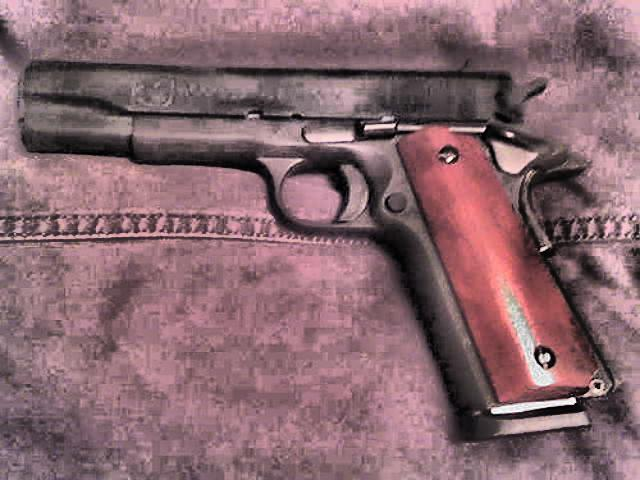pistol: (13, 54, 610, 434)
